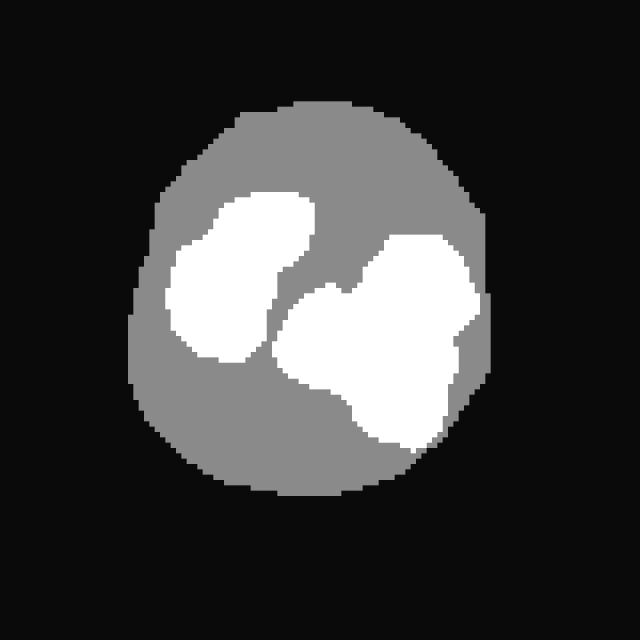WBC: (118, 90, 502, 522)
